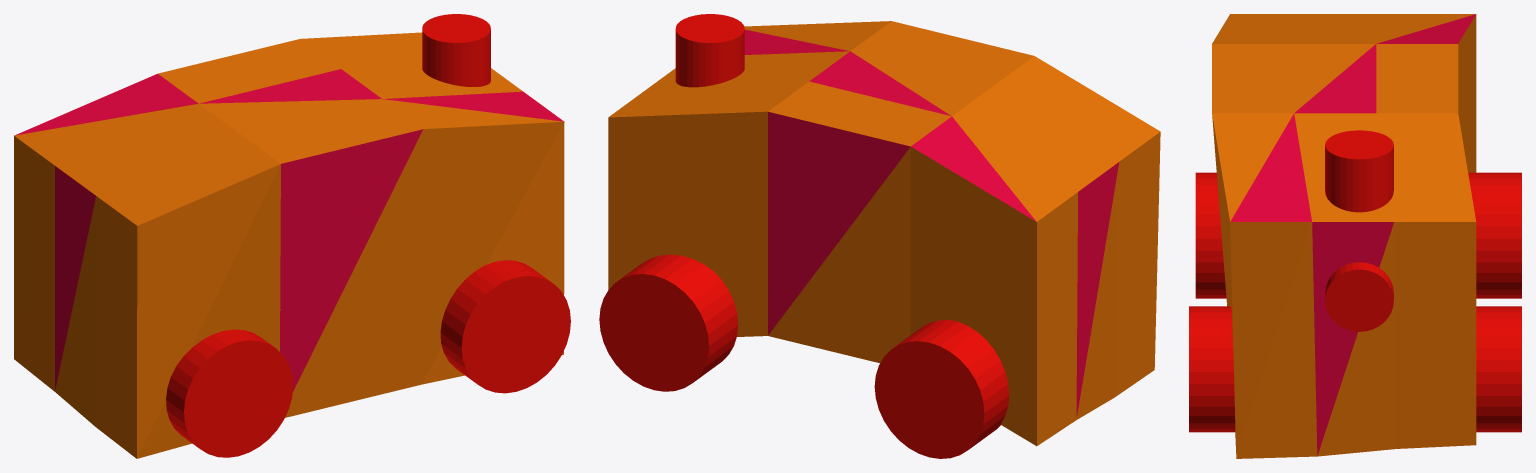
Rendered from car.glb.
3 renders of one model, left to right at view 1: azimuth 30°, elevation 25°; view 2: azimuth 150°, elevation 25°; view 3: azimuth 270°, elevation 25°, orthographic.
Parts seen in each view (by area): view 1: Cube; view 2: Cube; view 3: Cube.
Part boxes in pixels (x1,y1,x2,y2): Cube: [14, 14, 570, 458]; Cube: [599, 14, 1160, 458]; Cube: [1189, 14, 1521, 458].
Bounding box in the file's own units: 0.4146 × 0.2636 × 0.2704.
